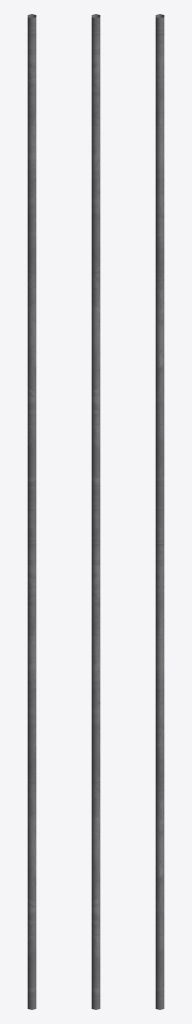
The picture shows the model from 3 angles, left to right: view 1: azimuth 30°, elevation 25°; view 2: azimuth 210°, elevation 25°; view 3: azimuth 330°, elevation 25°; orthographic projection.
Parts seen in each view (by area): view 1: MB_Tube_A_4m; view 2: MB_Tube_A_4m; view 3: MB_Tube_A_4m.
Boxes of the visible parts, x1=… form: MB_Tube_A_4m: x1=27, y1=14, x2=36, y2=1009; MB_Tube_A_4m: x1=91, y1=14, x2=100, y2=1009; MB_Tube_A_4m: x1=155, y1=14, x2=164, y2=1009.
Bounding box in the file's own units: 3.68 × 400 × 3.18.
